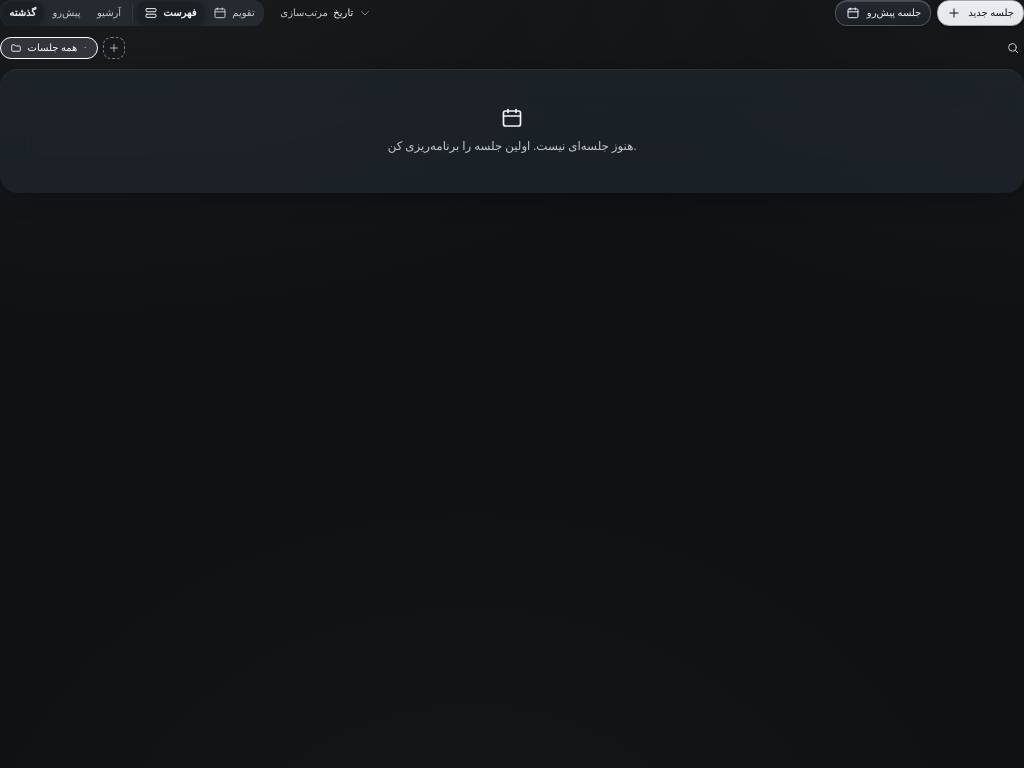
Test: the attendees row on the two create dialogs (2026-09-16) › the scheduling dialog carries the same row
Expected: the text "هنوز جلسه‌ای نیست. اولین جلسه را برنامه‌ریزی کن." is shown, top-left (388, 137), bottom-right (636, 157)
Step 1. Click the button "جلسه پیش‌رو" → (883, 13), box top-left (836, 0), bottom-right (931, 26)
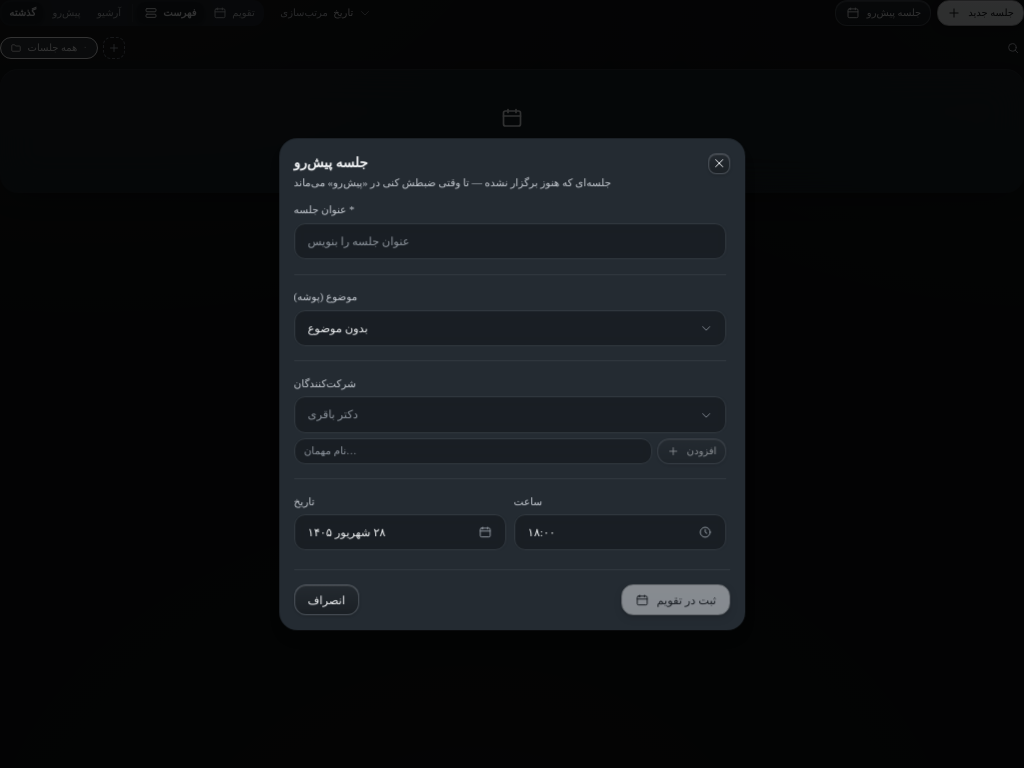
Expected: the dropdown named "شرکت‌کنندگان" reads "دکتر باقری", top-left (294, 397), bottom-right (727, 433)
Expected: the field with placeholder "نام مهمان…" is shown, top-left (294, 438), bottom-right (652, 464)
Expected: the number of dropdowns is 2, top-left (294, 310), bottom-right (727, 346); top-left (294, 397), bottom-right (727, 433)
